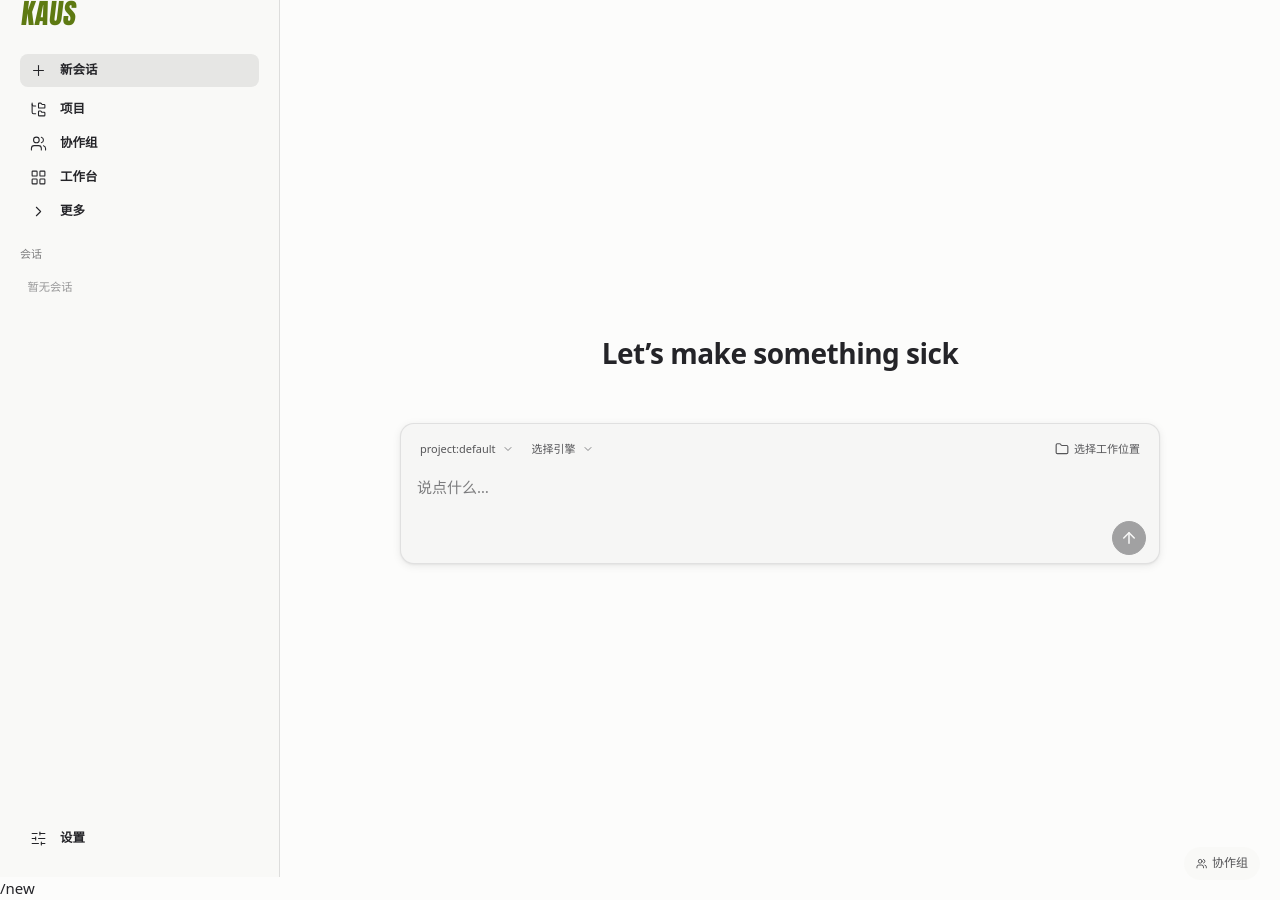
Test: 从草稿页点导航 › 进入 /new 后点 Dashboard 能切换
(page scrolled)
Check: the heading "Let’s make something sick" is shown, box [602,334,958,372]
What coordinates should you click on to do the following:
click the button with test id "nav-more-toggle"
I would click on:
 (140, 212)
Its box is [20,195,259,228].
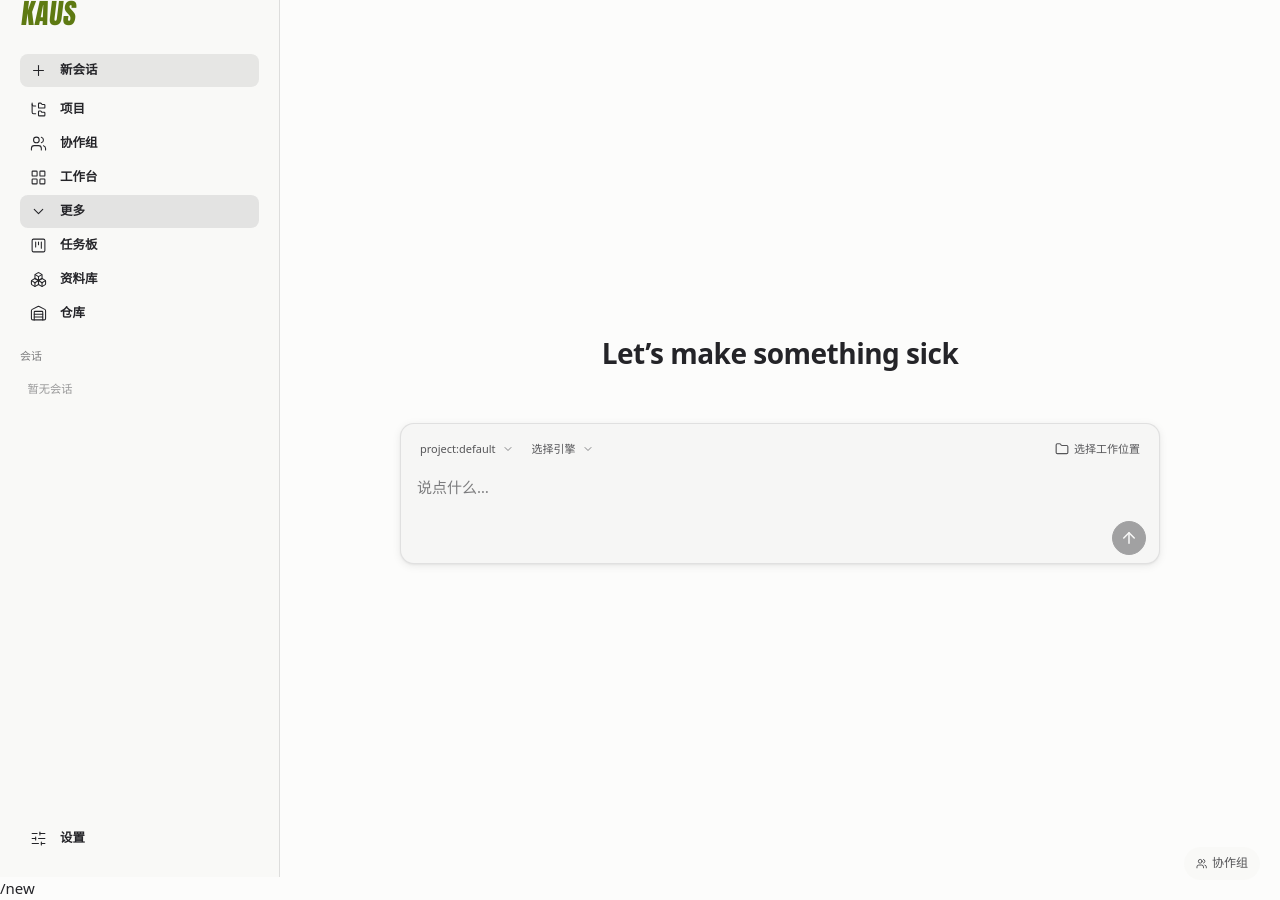
What coordinates should you click on to do the following:
click the button "设置"
I would click on:
 (140, 838)
Its box is [20,822,259,855].
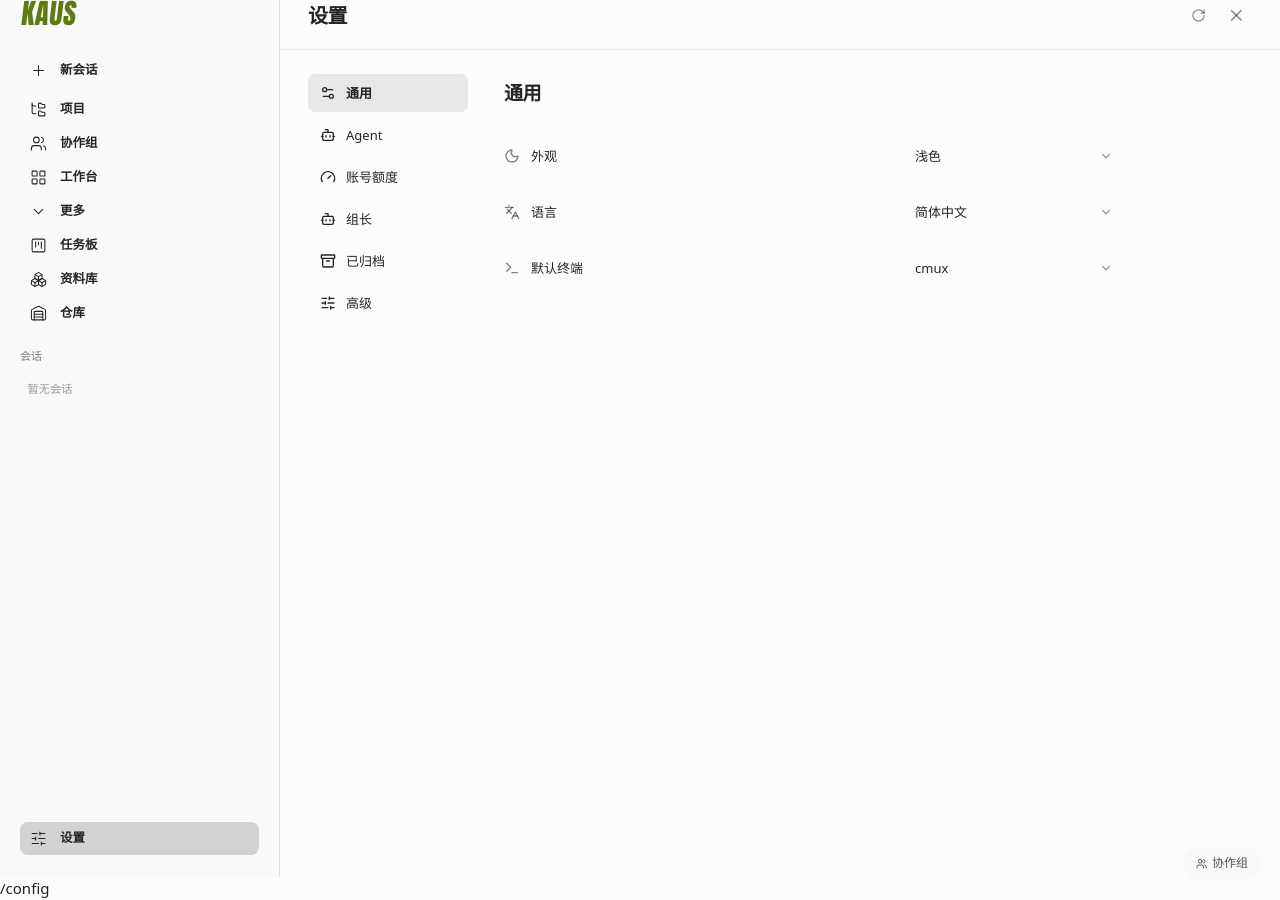
What coordinates should you click on to do the following:
click the button "高级"
I would click on:
 (388, 303)
Its box is [308,284,468,322].
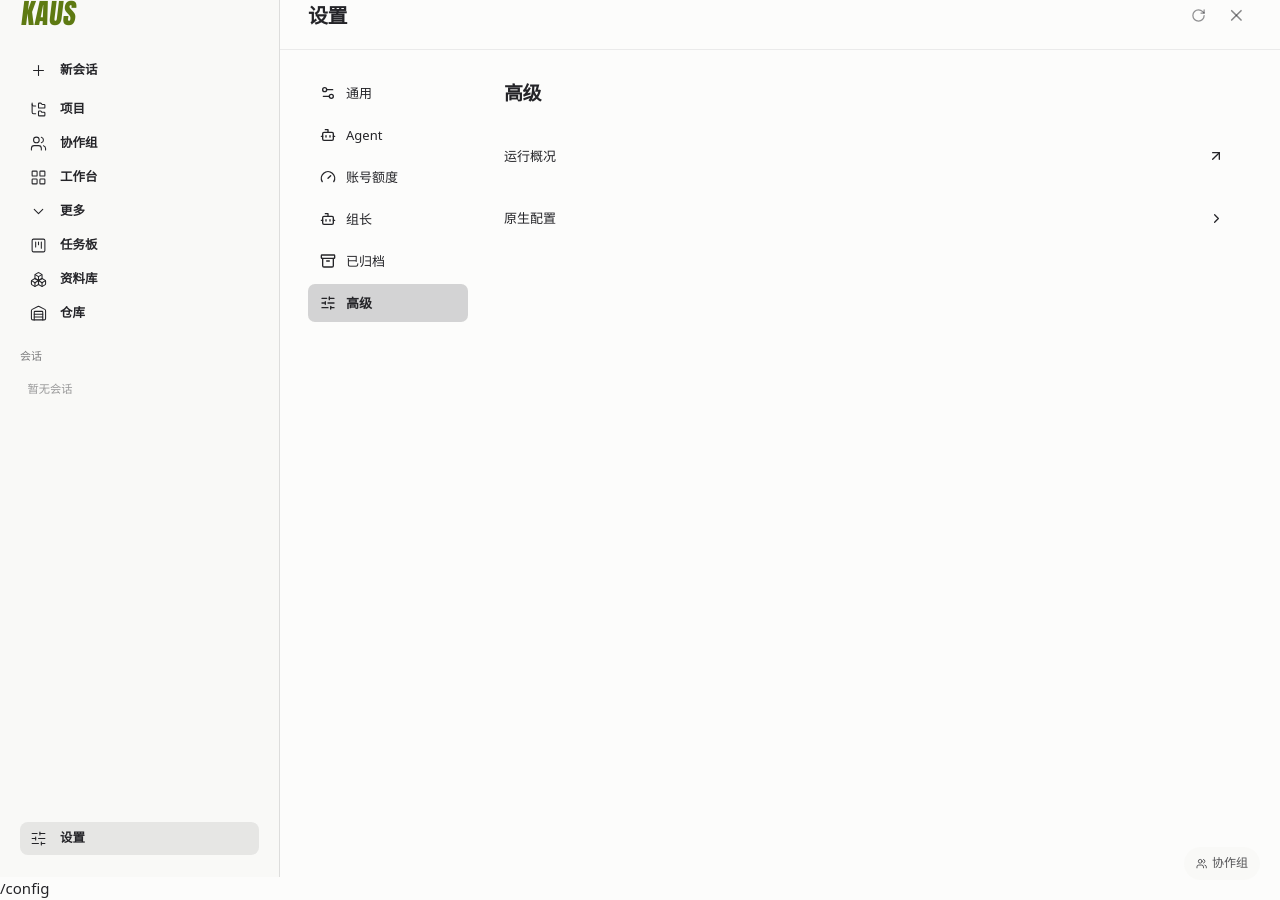
What coordinates should you click on to do the following:
click the button "运行概况"
I would click on:
 (530, 156)
Its box is [504,134,1224,178].
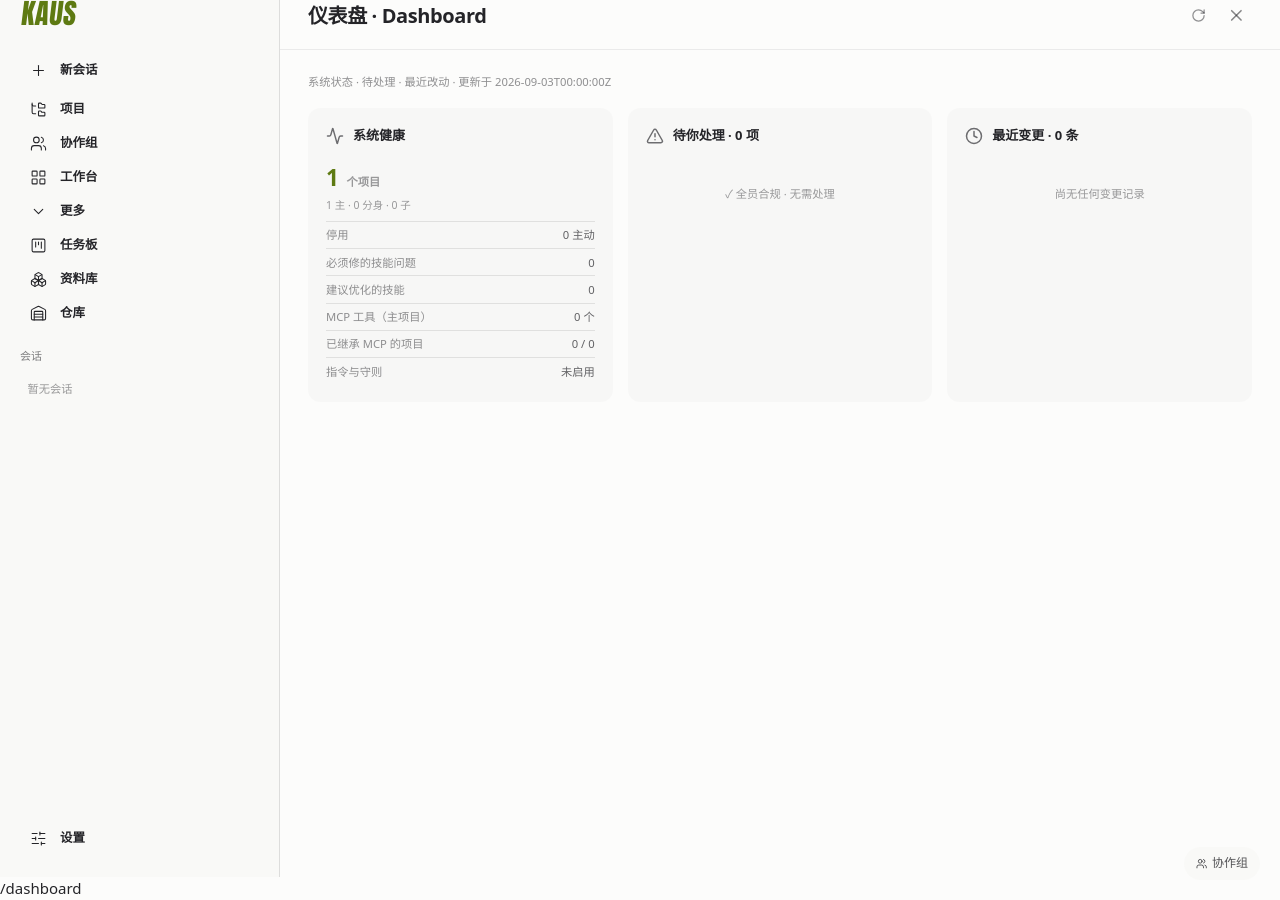
Check: the heading "Let’s make something sick" is not shown
Check: the heading "仪表盘 · Dashboard" is shown, box [308,2,486,28]
